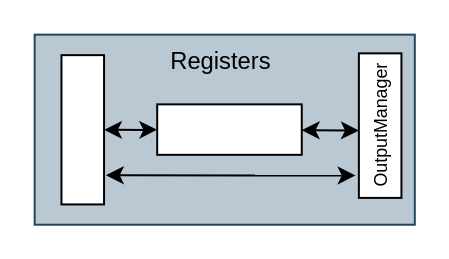
The diagram is 449 pixels wide and 259 high, and some of its shapes have lost their labels. Here are the shapes that lost their labels. From the top down, the box of each, then its label:
(60, 53, 104, 205): Input Manager
(155, 102, 302, 155): RegistersBlock
